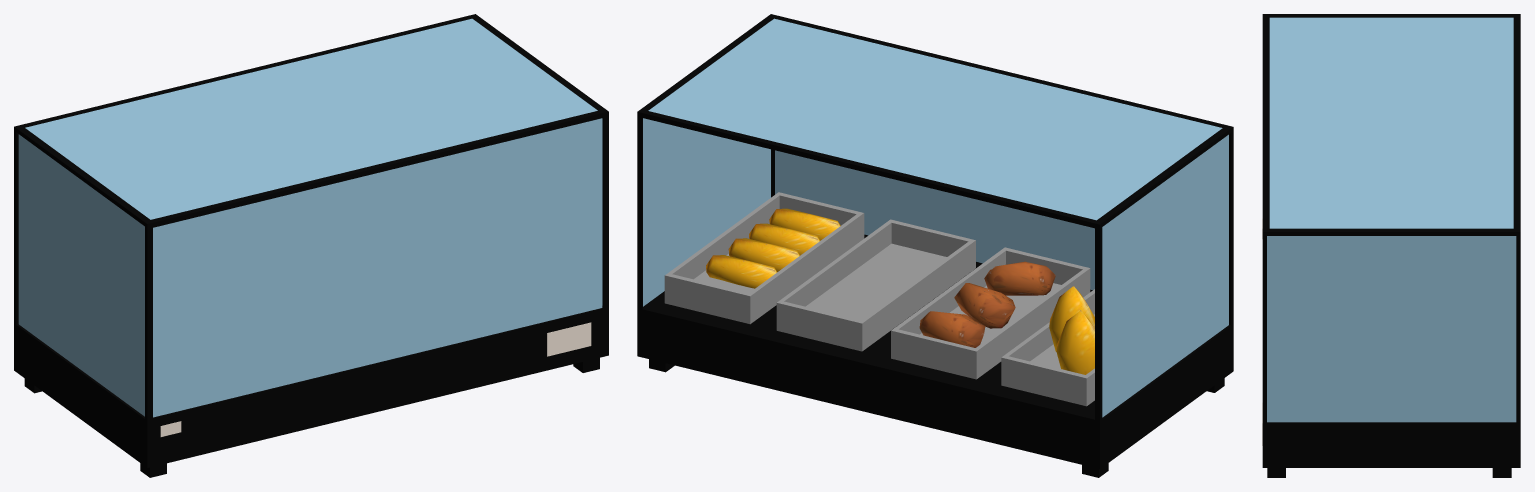
The model's file is GuardaComida.fbx.
The picture shows the model from 3 angles, left to right: view 1: azimuth 30°, elevation 25°; view 2: azimuth 150°, elevation 25°; view 3: azimuth 270°, elevation 25°; orthographic projection. The views are drawn at different scales.
Parts seen in each view (by area): view 1: SnackStove; view 2: SnackStove; view 3: SnackStove.
Part boxes in pixels (x1,y1,x2,y2): SnackStove: (14, 14, 608, 477); SnackStove: (637, 14, 1233, 477); SnackStove: (1262, 14, 1520, 477).
Size of the model in its own units: 345 by 184 by 173.
